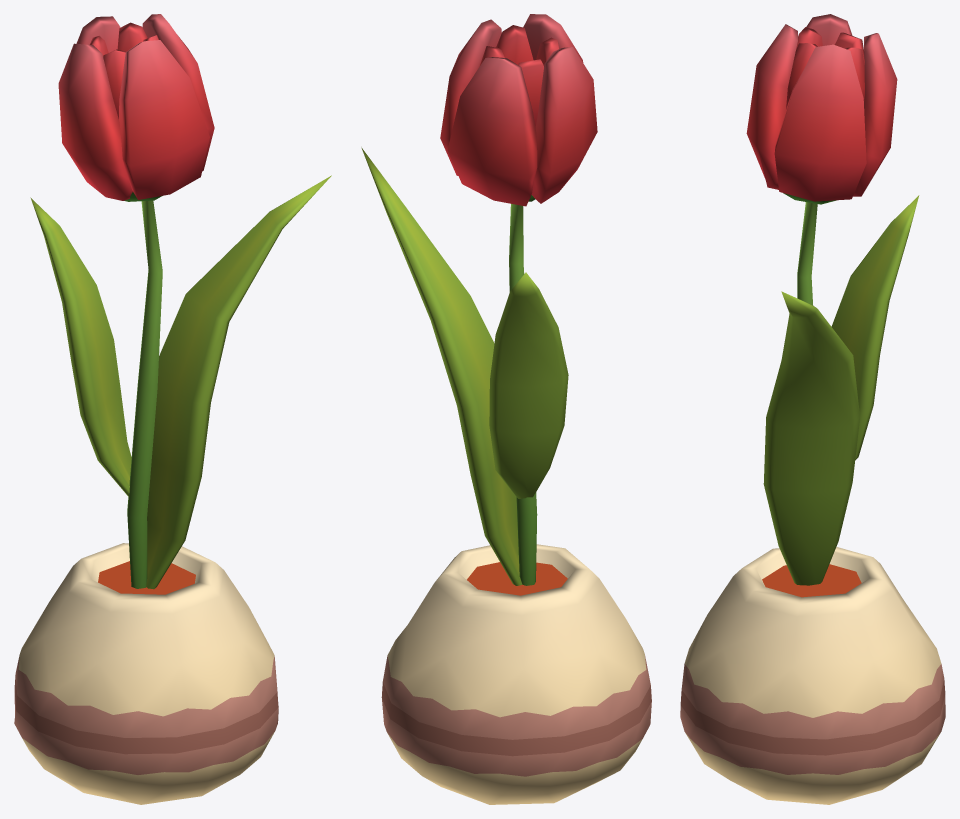
Rendered from Furniture_Plants_04.fbx.
3 renders of one model, left to right at view 1: azimuth 30°, elevation 25°; view 2: azimuth 150°, elevation 25°; view 3: azimuth 270°, elevation 25°, orthographic.
Parts seen in each view (by area): view 1: Furniture_Plants_04; view 2: Furniture_Plants_04; view 3: Furniture_Plants_04.
Boxes of the visible parts, bbox=[...] form: Furniture_Plants_04: bbox=[14, 14, 331, 804]; Furniture_Plants_04: bbox=[361, 14, 651, 804]; Furniture_Plants_04: bbox=[680, 14, 945, 804].
Bounding box in the file's own units: 72.9 × 181 × 58.95.
